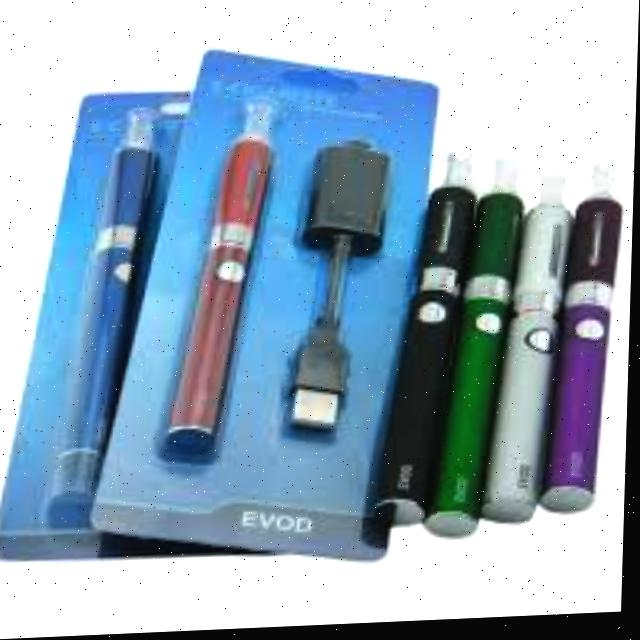vape: (54, 108, 173, 535), (167, 106, 282, 464), (377, 154, 475, 534), (431, 163, 525, 545), (489, 177, 574, 539), (555, 162, 622, 526)
